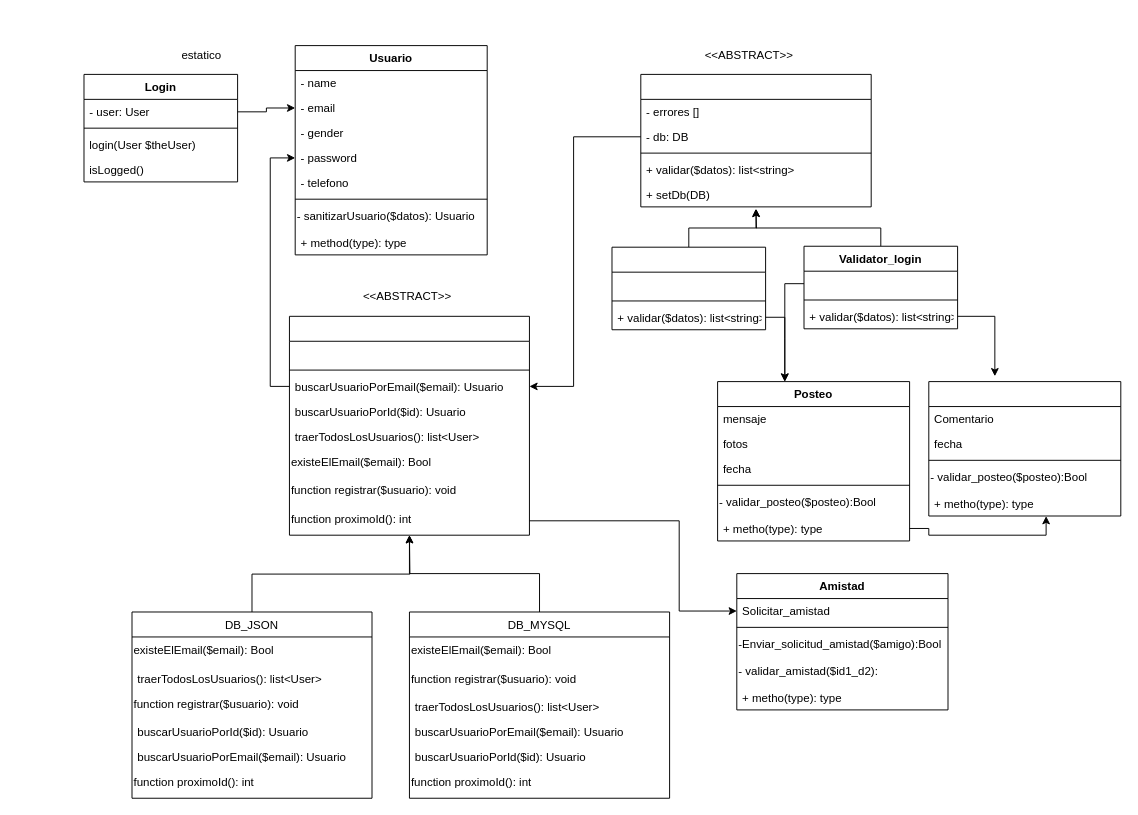
This 1138x815 diagram has some shape labels left out. The box of each missing label's shape, as (x1, y1, x2, y2) in pixels:
Comentar_Posteo: (928, 381, 1121, 516)
DB: (288, 315, 529, 535)
Validator: (640, 73, 871, 207)
Validator_registracion: (611, 246, 766, 330)
